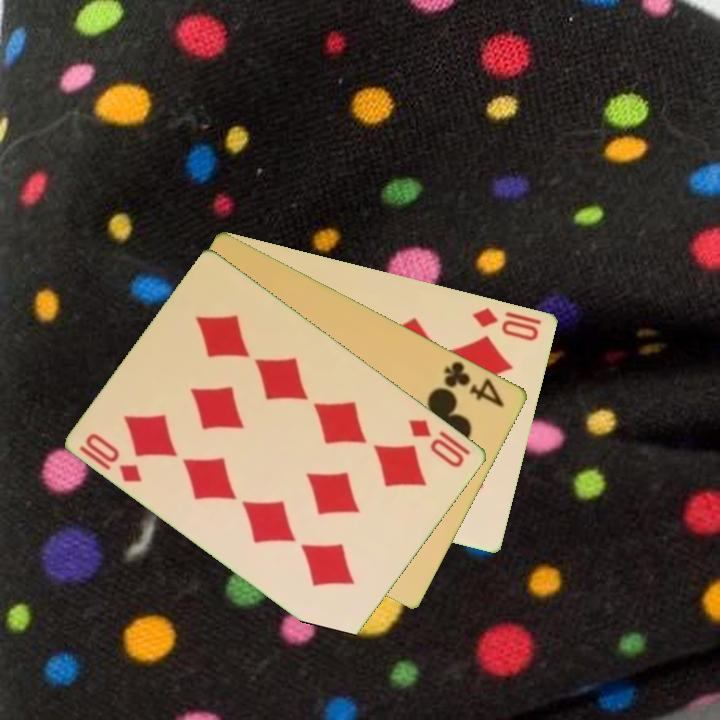10d: (76, 429, 146, 486), (405, 415, 468, 471), (469, 303, 545, 344)
4c: (440, 357, 508, 410)
